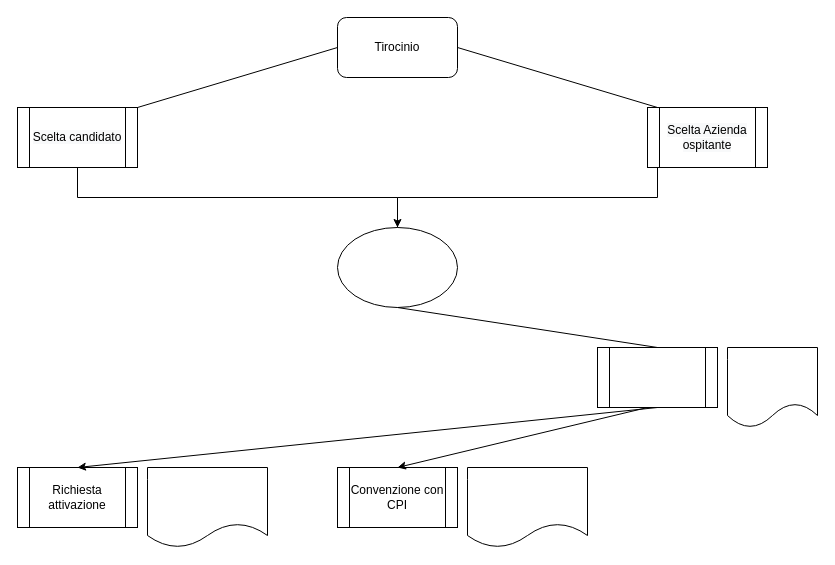
Some shapes in this 835 by 565 pixel diagram are drawn without their labels. The centre of each missing label's shape, as x and y in pixels:
"Abbinamento tirocinante/azienda" goes at (x=397, y=267).
"Verifiche aziendali" goes at (x=657, y=377).
